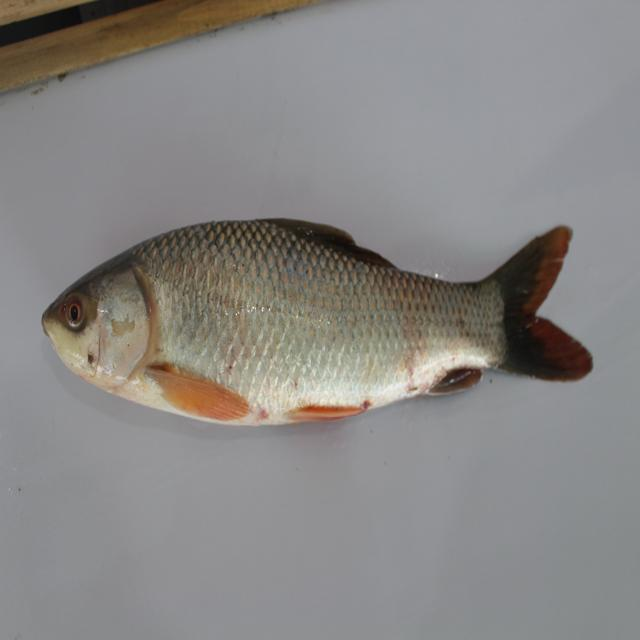Rohu: (27, 210, 611, 433)
